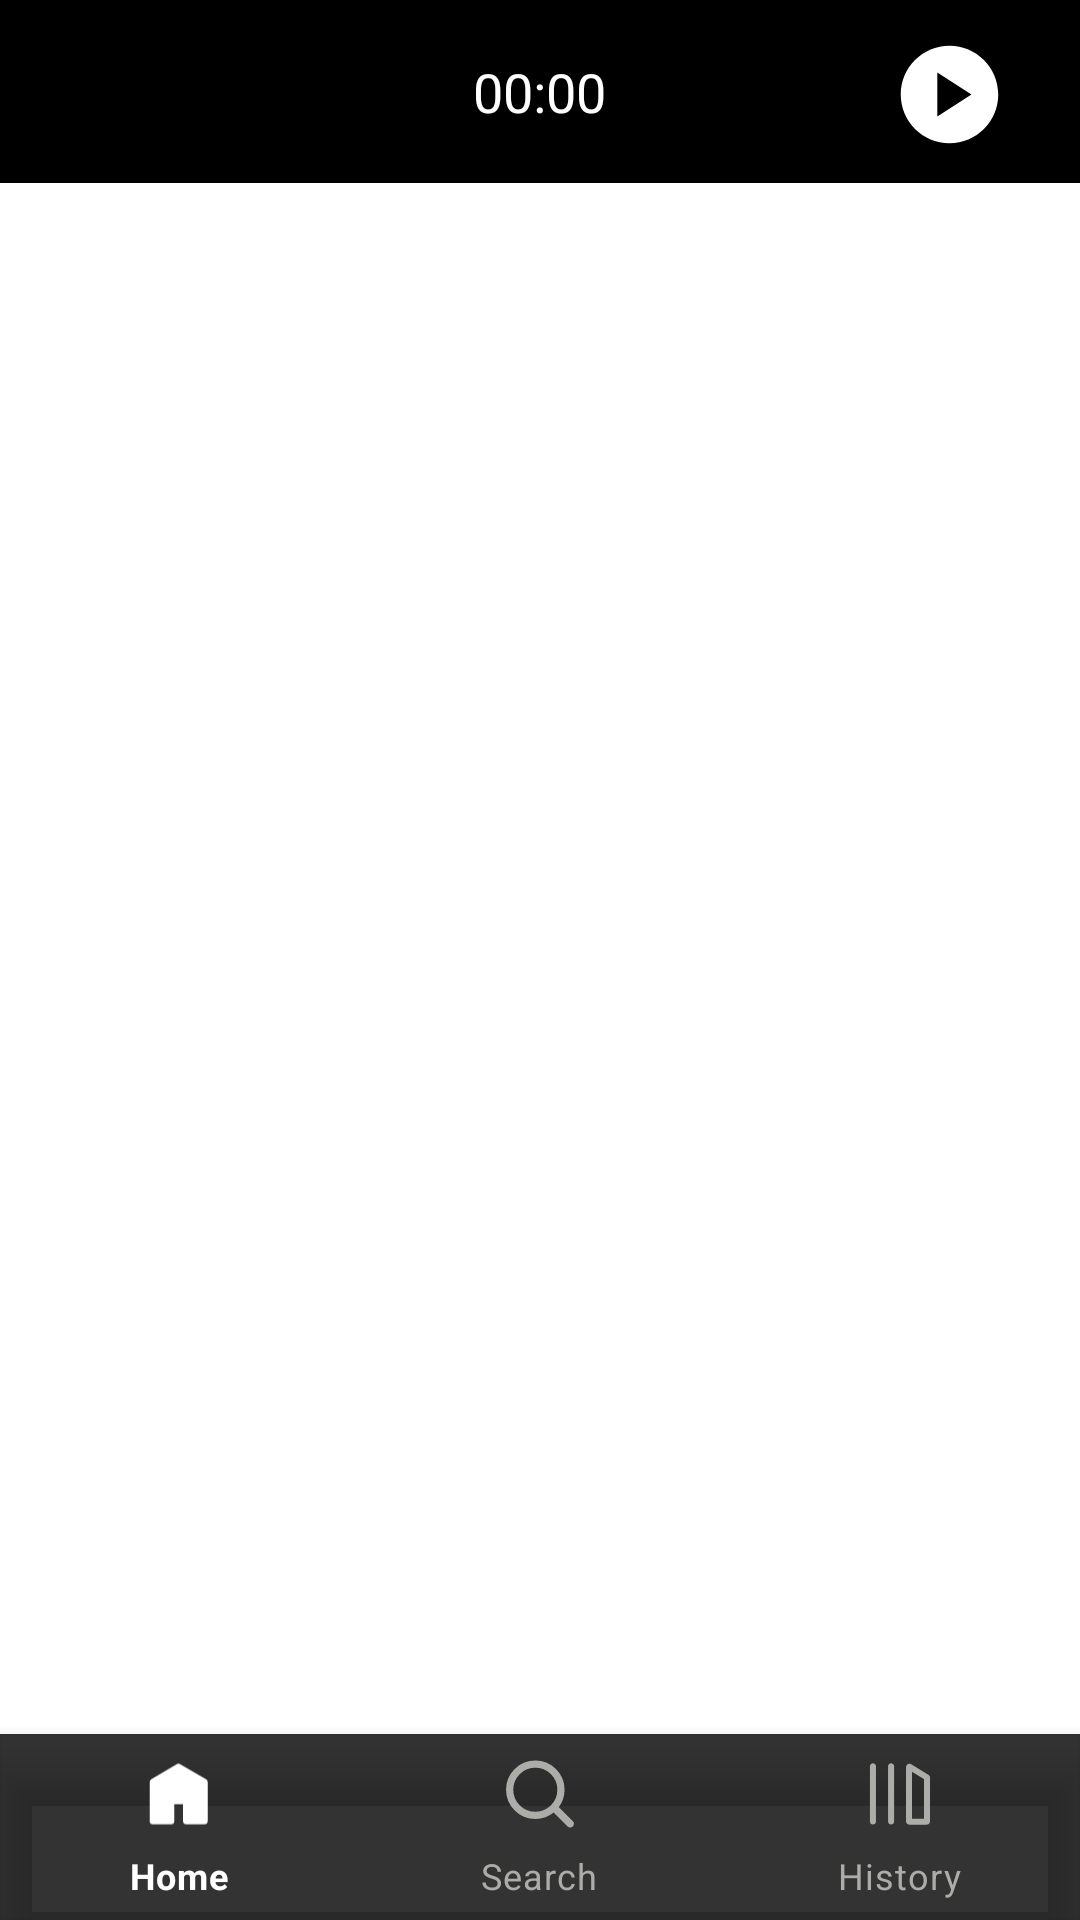

Where icons sit on this 1080px x 1920px app screen, as (x1, y1, x2, y2):
start: (900, 45, 999, 144)
